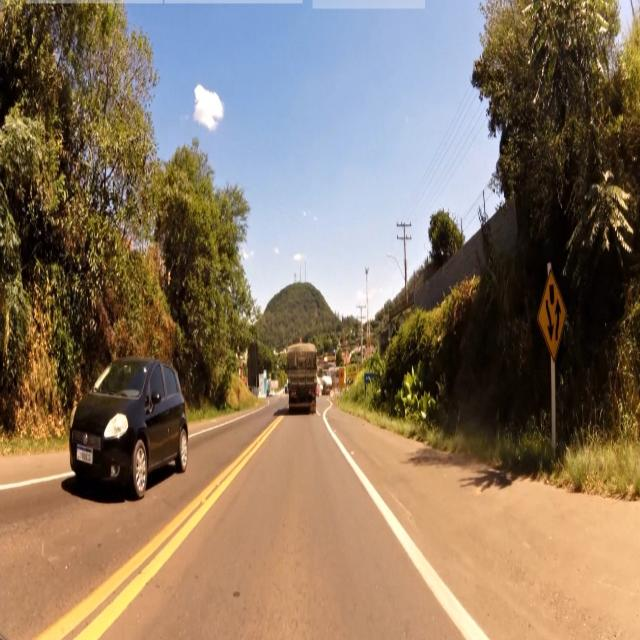A-42a: (537, 266, 570, 356)
